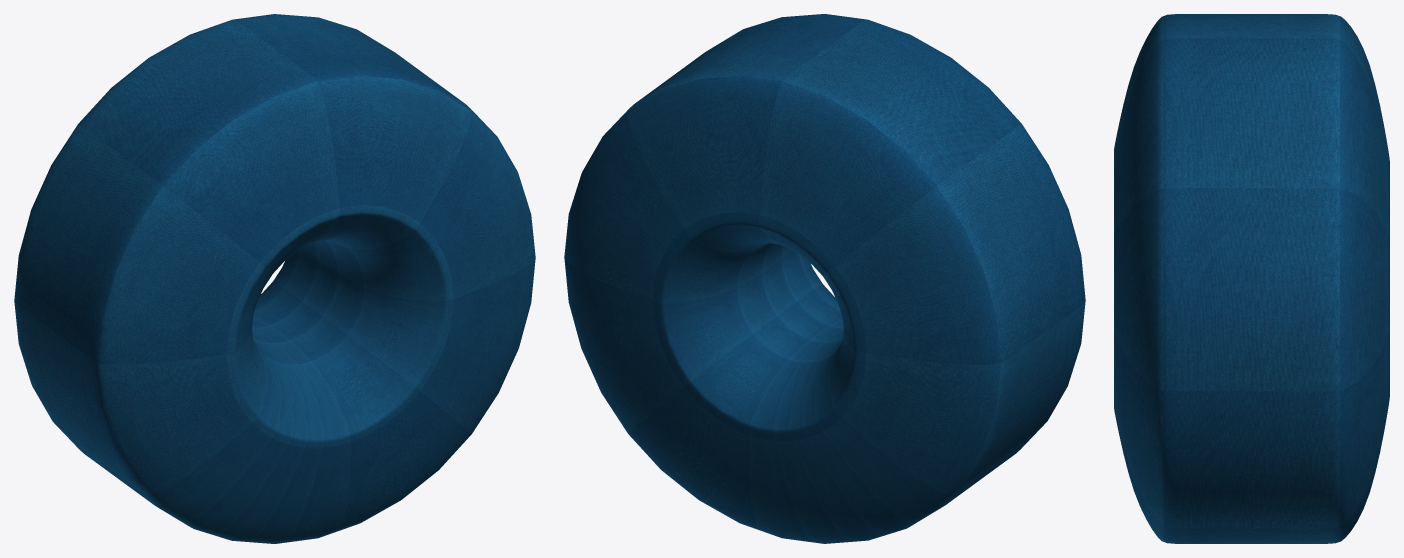
The picture shows the model from 3 angles, left to right: view 1: azimuth 30°, elevation 25°; view 2: azimuth 150°, elevation 25°; view 3: azimuth 270°, elevation 25°; orthographic projection. The views are drawn at different scales.
Visible parts, largest first — view 1: group31_group30_nurbsToPoly13; view 2: group31_group30_nurbsToPoly13; view 3: group31_group30_nurbsToPoly13.
Boxes of the visible parts, box(x1,y1,x2,y2) form: group31_group30_nurbsToPoly13: box(14, 14, 535, 543); group31_group30_nurbsToPoly13: box(564, 14, 1085, 543); group31_group30_nurbsToPoly13: box(1114, 14, 1389, 543).
Size of the model in its own units: 0.6149 by 0.615 by 0.3192.
